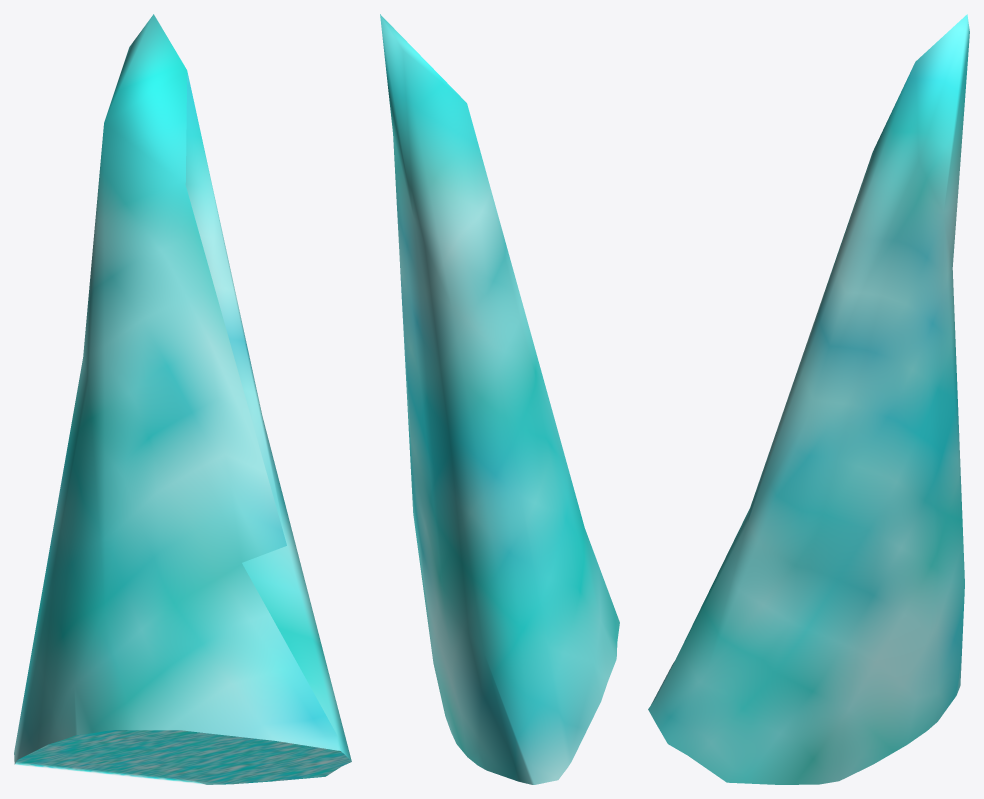
3 views of the same model, side by side, from view 1: azimuth 30°, elevation 25°; view 2: azimuth 150°, elevation 25°; view 3: azimuth 270°, elevation 25° (orthographic). The views are drawn at different scales.
Visible parts, largest first — view 1: SM_VFX_Withered_Spike_09_LOD0; view 2: SM_VFX_Withered_Spike_09_LOD0; view 3: SM_VFX_Withered_Spike_09_LOD0.
Part boxes in pixels (x1,y1,x2,y2): SM_VFX_Withered_Spike_09_LOD0: (14, 14, 351, 784); SM_VFX_Withered_Spike_09_LOD0: (380, 14, 619, 784); SM_VFX_Withered_Spike_09_LOD0: (648, 14, 969, 784).
Bounding box in the file's own units: 0.742 × 2.36 × 0.8941.
1 material, 1 textured.
